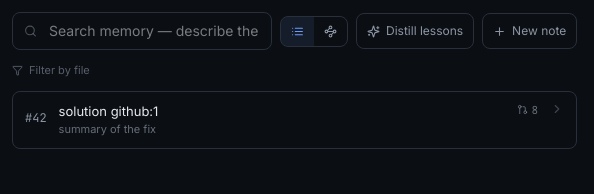
it: MemoryBrowser — lesson backfill (#256) › reports the failures alongside the successes
Check: the text "solution github:1" is shown, box [59,102,158,118]
Click the button "Distill lessons" at [415, 31], box [356,13,474,49]
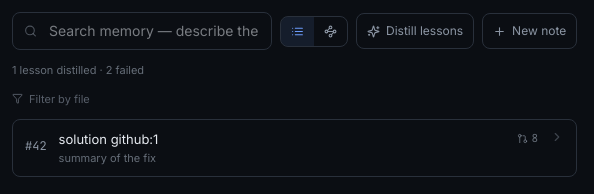
Check: the text "1 lesson distilled · 2 failed" is shown, box [12,63,144,77]
